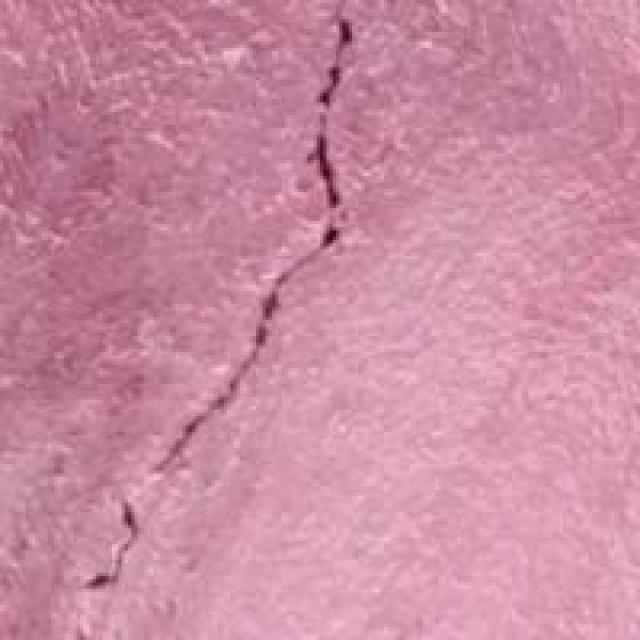crack: (48, 9, 378, 598)
